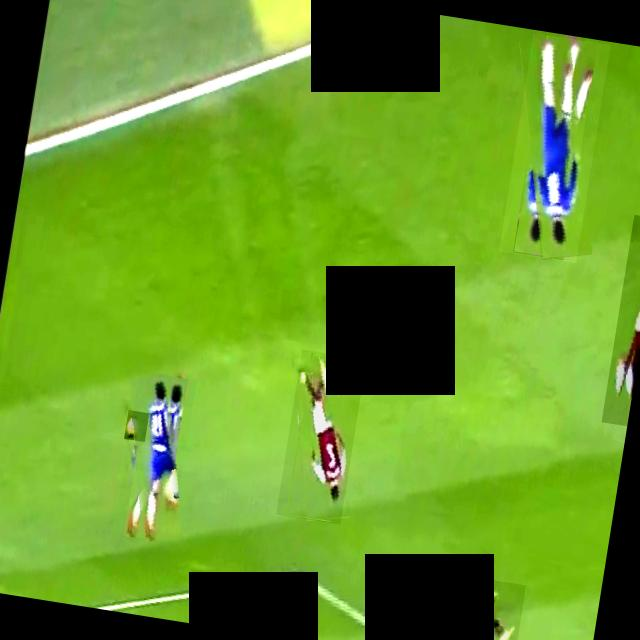ball: (124, 410, 149, 442)
soccer-player: (499, 33, 612, 263), (276, 350, 366, 524), (114, 370, 198, 546), (601, 215, 640, 426), (449, 575, 526, 640)
